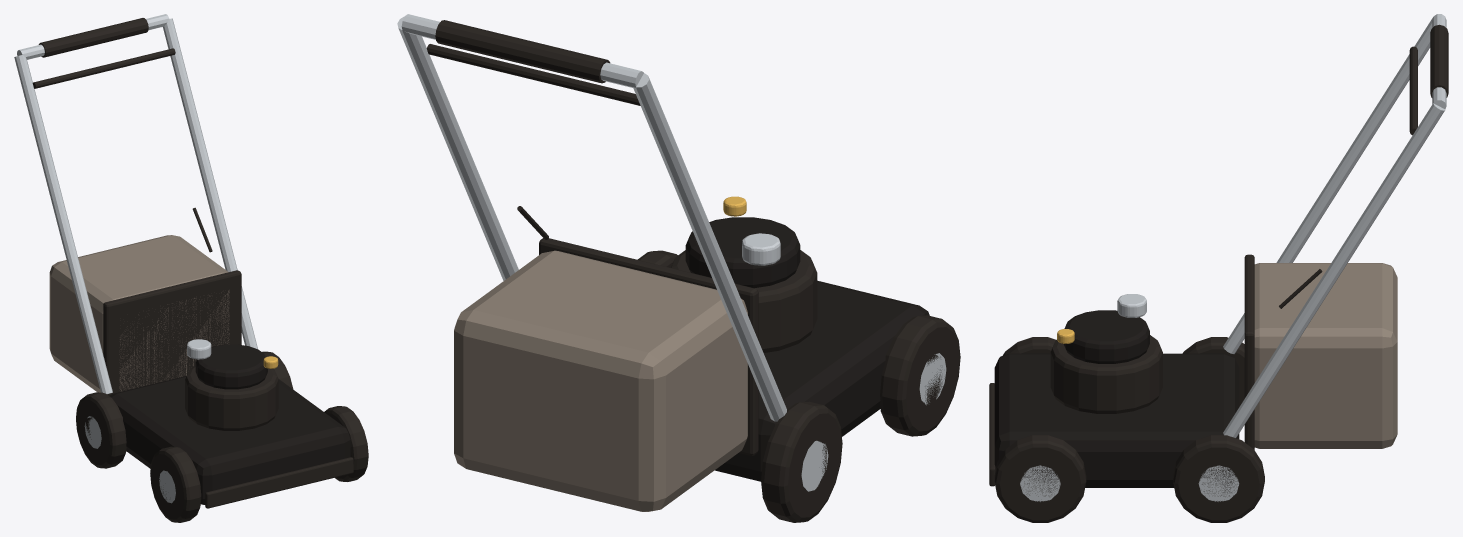
File: hh_cat_push_mower.glb
3 views of the same model, side by side, from view 1: azimuth 30°, elevation 25°; view 2: azimuth 150°, elevation 25°; view 3: azimuth 270°, elevation 25° (orthographic). The views are drawn at different scales.
Visible parts, largest first — view 1: deck, grass_bag, bag_frame, handle_bar, engine, handle_bar.001, wheel.002, wheel, engine_cover, bumper, grip, wheel.001 (+4 smaller); view 2: grass_bag, deck, wheel, handle_bar, wheel.002, handle_bar.001, engine_cover, engine, grip, bag_frame, bail_bar, handle_bar.002 (+3 smaller); view 3: grass_bag, deck, engine, wheel.001, wheel.003, handle_bar.001, handle_bar, engine_cover, bag_frame, grip, hub.001, hub.003 (+5 smaller).
Boxes of the visible parts, x1,y1,x2,y2 form: deck: [109, 376, 350, 504]; grass_bag: [49, 235, 229, 392]; bag_frame: [103, 270, 241, 395]; handle_bar: [14, 55, 112, 394]; engine: [185, 365, 278, 430]; handle_bar.001: [163, 18, 257, 349]; wheel.002: [76, 392, 126, 468]; wheel: [150, 446, 201, 522]; engine_cover: [195, 344, 267, 389]; bumper: [205, 457, 353, 508]; grip: [38, 18, 148, 57]; wheel.001: [324, 406, 368, 481]; grass_bag: [454, 250, 747, 511]; deck: [715, 280, 929, 481]; wheel: [880, 315, 960, 436]; handle_bar: [633, 73, 786, 421]; wheel.002: [761, 401, 842, 522]; handle_bar.001: [397, 16, 518, 280]; engine_cover: [685, 217, 800, 288]; engine: [671, 250, 817, 352]; grip: [435, 20, 610, 83]; bag_frame: [539, 238, 758, 455]; bail_bar: [426, 44, 640, 105]; handle_bar.002: [401, 14, 643, 87]; grass_bag: [1254, 263, 1397, 448]; deck: [994, 353, 1239, 487]; engine: [1050, 335, 1162, 413]; wheel.001: [994, 435, 1086, 522]; wheel.003: [1173, 435, 1264, 522]; handle_bar.001: [1223, 103, 1445, 437]; handle_bar: [1223, 17, 1433, 353]; engine_cover: [1064, 310, 1149, 363]; bag_frame: [1244, 254, 1254, 449]; grip: [1430, 24, 1448, 97]; hub.001: [1020, 465, 1060, 501]; hub.003: [1198, 465, 1239, 501].
Size of the model in its own units: 0.5 by 0.9 by 0.9.
